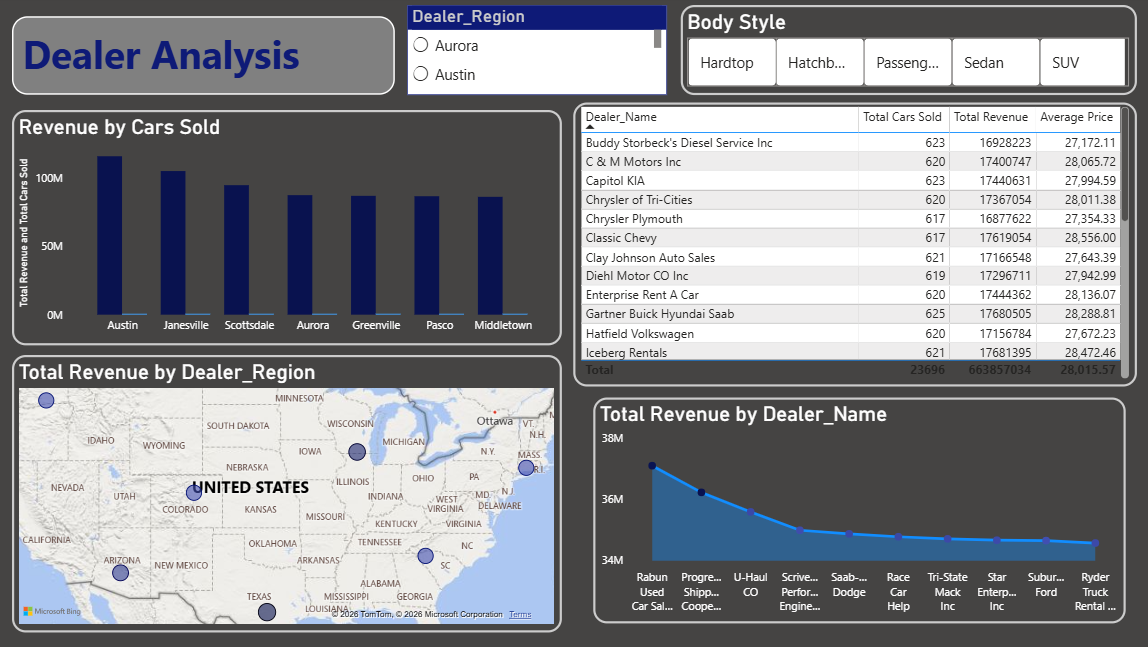

The dashboard page shown, as its layout file describes it:
{"tool":"powerbi","page":{"name":"Dealer Analysis","canvas":[1280,720],"ordinal":1},"visuals":[{"type":"areaChart","fields":{"Category":["car_data.Dealer_Name"],"Y":["car_data.Total Revenue"]},"box":[662.2,443.3,586.5,249.2],"z":0},{"type":"map","fields":{"Category":["car_data.Dealer_Region"],"Size":["car_data.Total Revenue"]},"box":[22,396.5,605.7,305.6],"z":1000},{"type":"tableEx","title":"Dealer Performance Summary","fields":{"Values":["car_data.Dealer_Name","car_data.Total Cars Sold","car_data.Total Revenue","car_data.Average Price"]},"box":[640.1,118.4,620.9,312.5],"z":2000},{"type":"clusteredColumnChart","title":"Revenue by Cars Sold ","fields":{"Category":["car_data.Dealer_Region"],"Y":["car_data.Total Revenue","car_data.Total Cars Sold"]},"box":[22,126.7,605.7,258.8],"z":3000},{"type":"advancedSlicerVisual","fields":{"Values":["car_data.Body Style"]},"box":[758.5,11,502.5,99.1],"z":4000},{"type":"textbox","box":[22,23.4,421.3,86.7],"z":5000},{"type":"listSlicer","fields":{"Values":["car_data.Dealer_Region"]},"box":[457,11,286.3,99.1],"z":6000}]}

Visuals, with their boxes in screenshot pixels (x1, y1, x2, y2), scaled from the page's 1280x720 canvas onto the 1148x647 screenshot:
areaChart - car_data.Dealer_Name x car_data.Total Revenue: [594,398,1120,622]
map - car_data.Dealer_Region x car_data.Total Revenue: [20,356,563,631]
"Dealer Performance Summary" tableEx: [574,106,1131,387]
"Revenue by Cars Sold " clusteredColumnChart: [20,114,563,346]
advancedSlicerVisual - car_data.Body Style: [680,10,1131,99]
textbox: [20,21,398,99]
listSlicer - car_data.Dealer_Region: [410,10,667,99]
